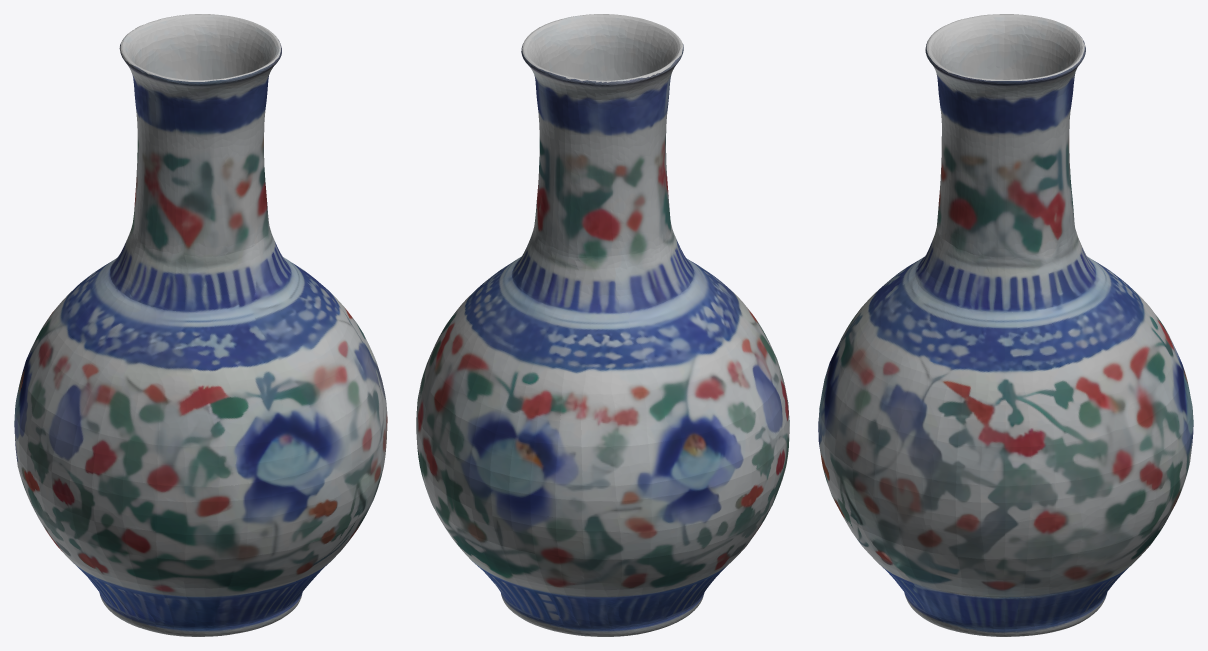
File: vase.glb
The picture shows the model from 3 angles, left to right: view 1: azimuth 30°, elevation 25°; view 2: azimuth 150°, elevation 25°; view 3: azimuth 270°, elevation 25°; orthographic projection.
Visible parts, largest first — view 1: world; view 2: world; view 3: world.
Part boxes in pixels (x1=…): world: x1=14, y1=14, x2=387, y2=636; world: x1=416, y1=14, x2=789, y2=636; world: x1=818, y1=14, x2=1193, y2=636.
Size of the model in its own units: 0.6187 by 0.9978 by 0.6177.
1 material, 1 textured.
